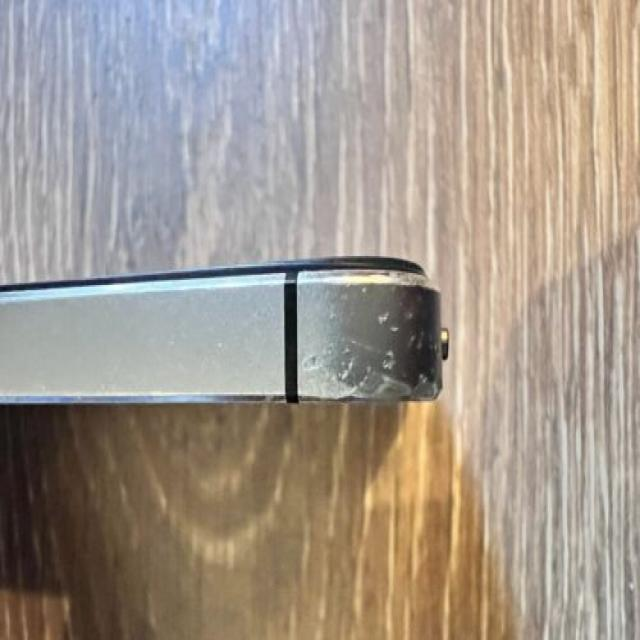Dents: (305, 268, 434, 348), (270, 346, 444, 405)
